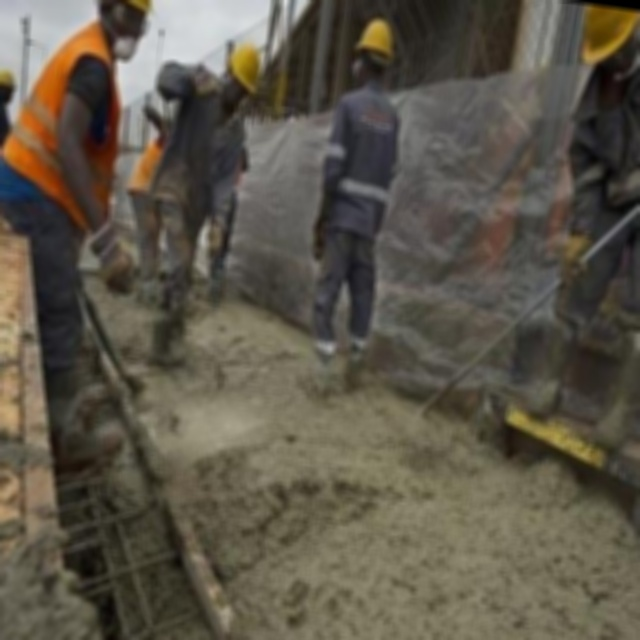Con_Casco: (215, 40, 268, 111), (351, 20, 399, 84)
Con_Chaleco: (0, 27, 139, 232)
